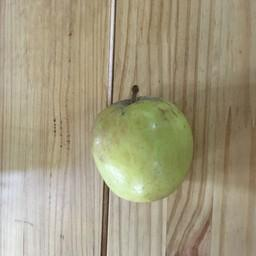Good_apple: (88, 94, 196, 209)
